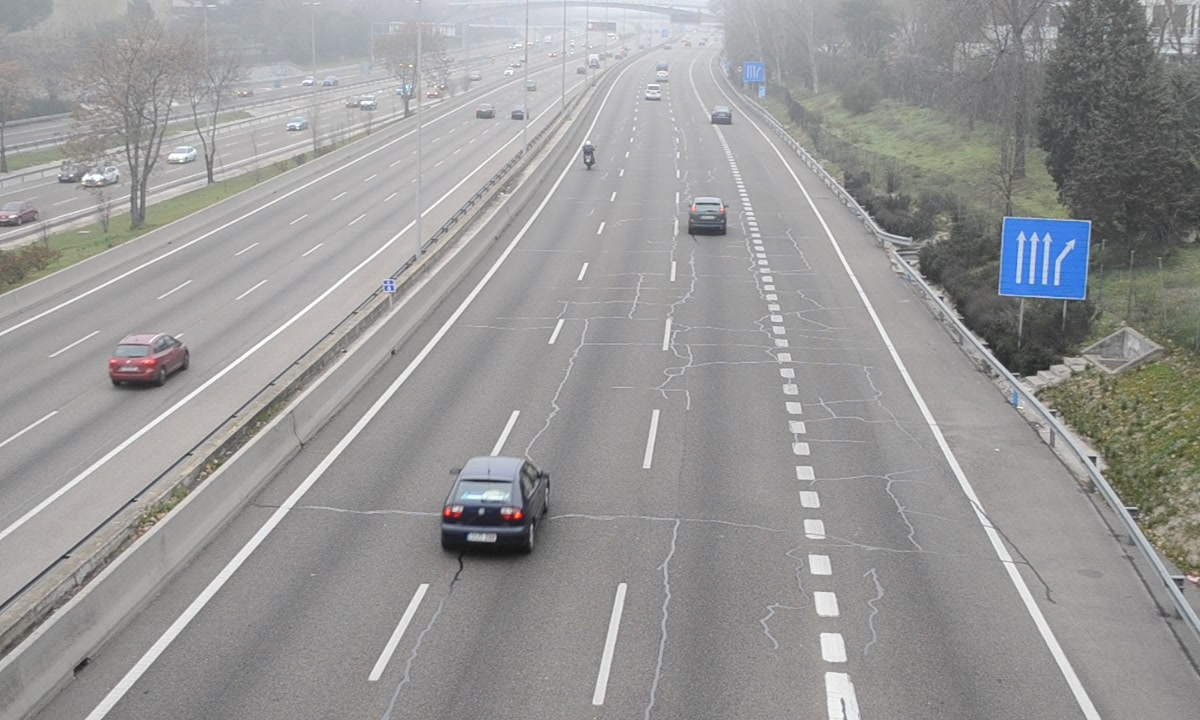car: (441, 459, 551, 556), (689, 197, 727, 237), (710, 106, 732, 125)
motorcycle: (581, 140, 596, 174)
